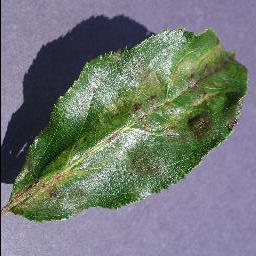apple healthy: (3, 25, 248, 223)
